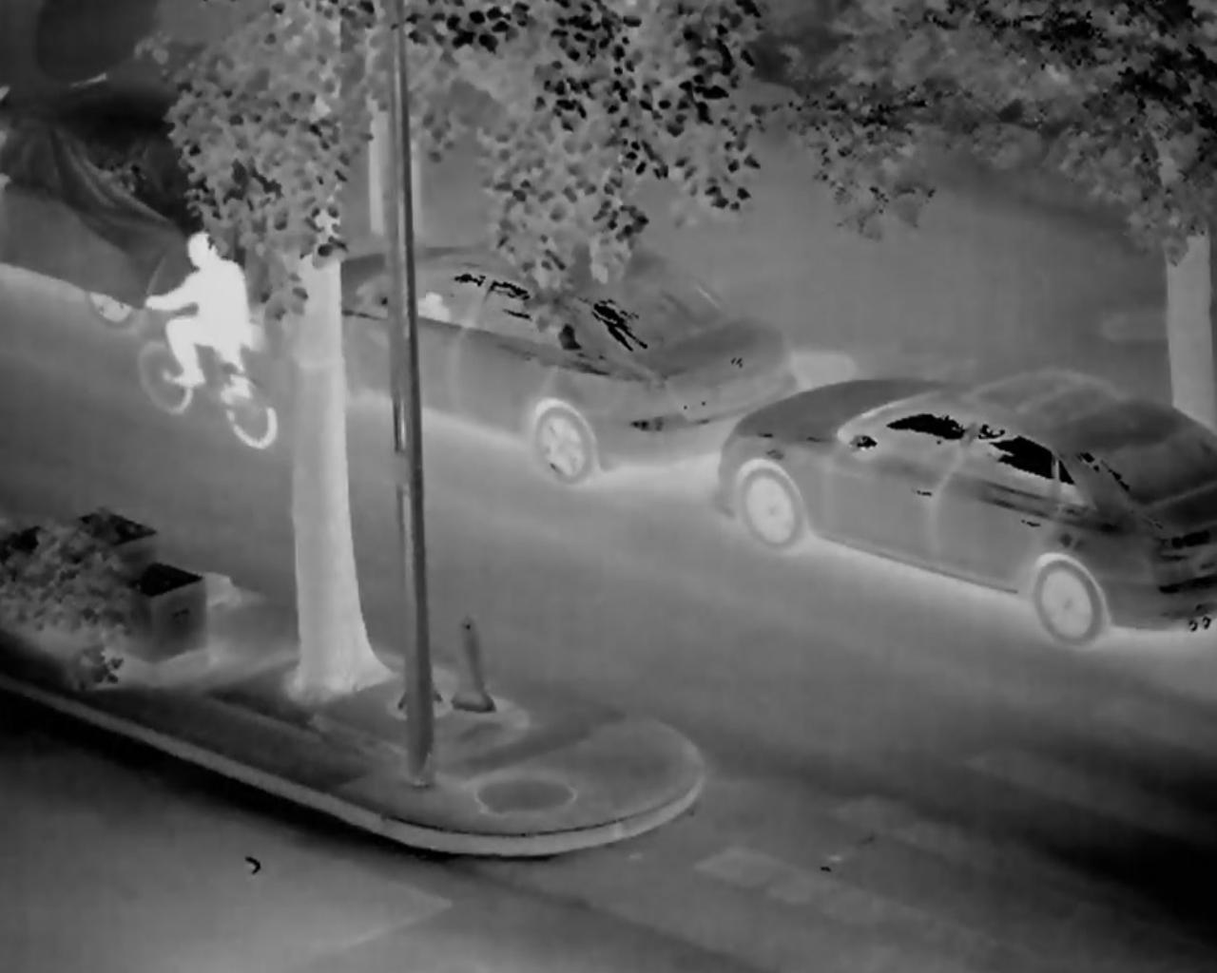person: (140, 222, 252, 405)
